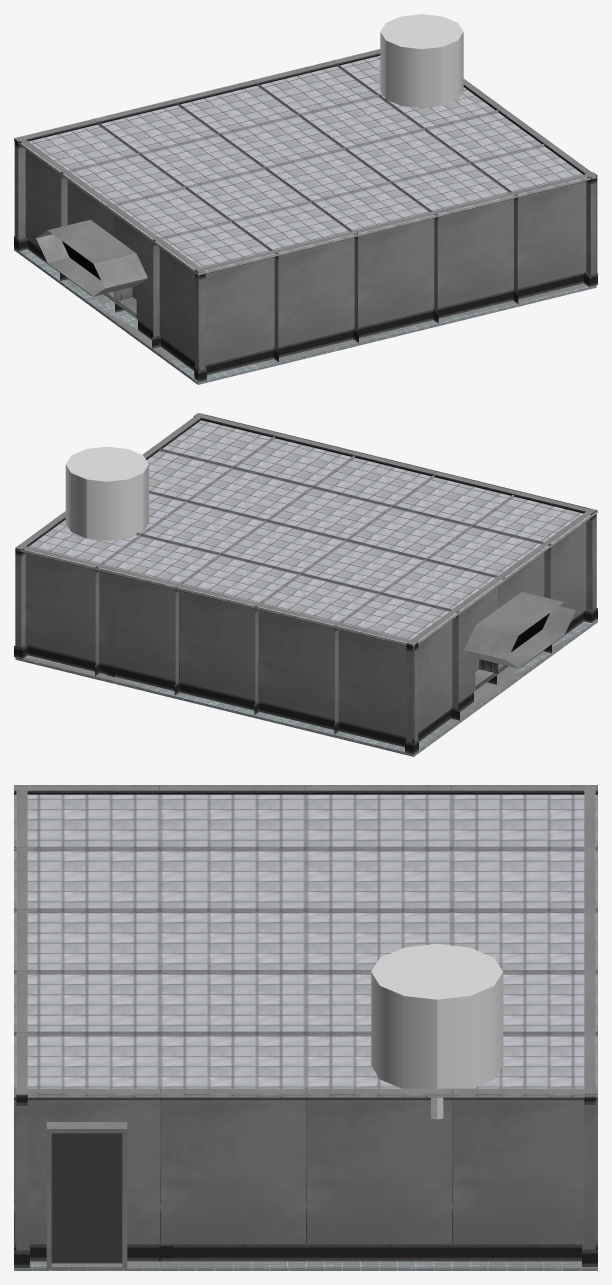
The model's file is Env_Room.fbx.
3 renders of one model, top to bottom at view 1: azimuth 30°, elevation 25°; view 2: azimuth 150°, elevation 25°; view 3: azimuth 270°, elevation 25°, orthographic. The views are drawn at different scales.
Parts seen in each view (by area): view 1: Ceiling, Walls, Window, Walls.003, Cylinder.004, Floor, Walls.001, Wall_Doorframe, Walls.002; view 2: Ceiling, Walls.001, Window, Walls.003, Cylinder.004, Floor, Walls, Walls.002, Cube.030; view 3: Ceiling, Walls.002, Cylinder.004, Wall_Doorframe, Door, Walls, Walls.001, Floor, Window, Walls.003.
Part boxes in pixels (x1=…): Ceiling: x1=14, y1=49, x2=596, y2=275; Walls: x1=194, y1=172, x2=597, y2=380; Window: x1=36, y1=170, x2=160, y2=348; Walls.003: x1=14, y1=136, x2=206, y2=382; Cylinder.004: x1=380, y1=14, x2=463, y2=108; Floor: x1=14, y1=248, x2=596, y2=384; Walls.001: x1=14, y1=50, x2=380, y2=251; Wall_Doorframe: x1=544, y1=142, x2=597, y2=286; Walls.002: x1=463, y1=79, x2=549, y2=143; Ceiling: x1=15, y1=414, x2=597, y2=647; Walls.001: x1=16, y1=544, x2=418, y2=753; Window: x1=452, y1=542, x2=575, y2=720; Walls.003: x1=405, y1=508, x2=597, y2=754; Cylinder.004: x1=65, y1=446, x2=148, y2=540; Floor: x1=15, y1=619, x2=597, y2=756; Walls: x1=193, y1=413, x2=596, y2=622; Walls.002: x1=14, y1=447, x2=159, y2=658; Cube.030: x1=107, y1=573, x2=115, y2=676; Ceiling: x1=14, y1=785, x2=597, y2=1097; Walls.002: x1=160, y1=1088, x2=597, y2=1267; Cylinder.004: x1=371, y1=944, x2=503, y2=1119; Wall_Doorframe: x1=14, y1=1088, x2=159, y2=1269; Door: x1=51, y1=1133, x2=122, y2=1263; Walls: x1=14, y1=786, x2=29, y2=1267; Walls.001: x1=582, y1=785, x2=597, y2=1266; Floor: x1=14, y1=1261, x2=597, y2=1270; Window: x1=160, y1=786, x2=451, y2=794; Walls.003: x1=14, y1=786, x2=597, y2=794.
Bounding box in the file's own units: 1096 × 404 × 800.
